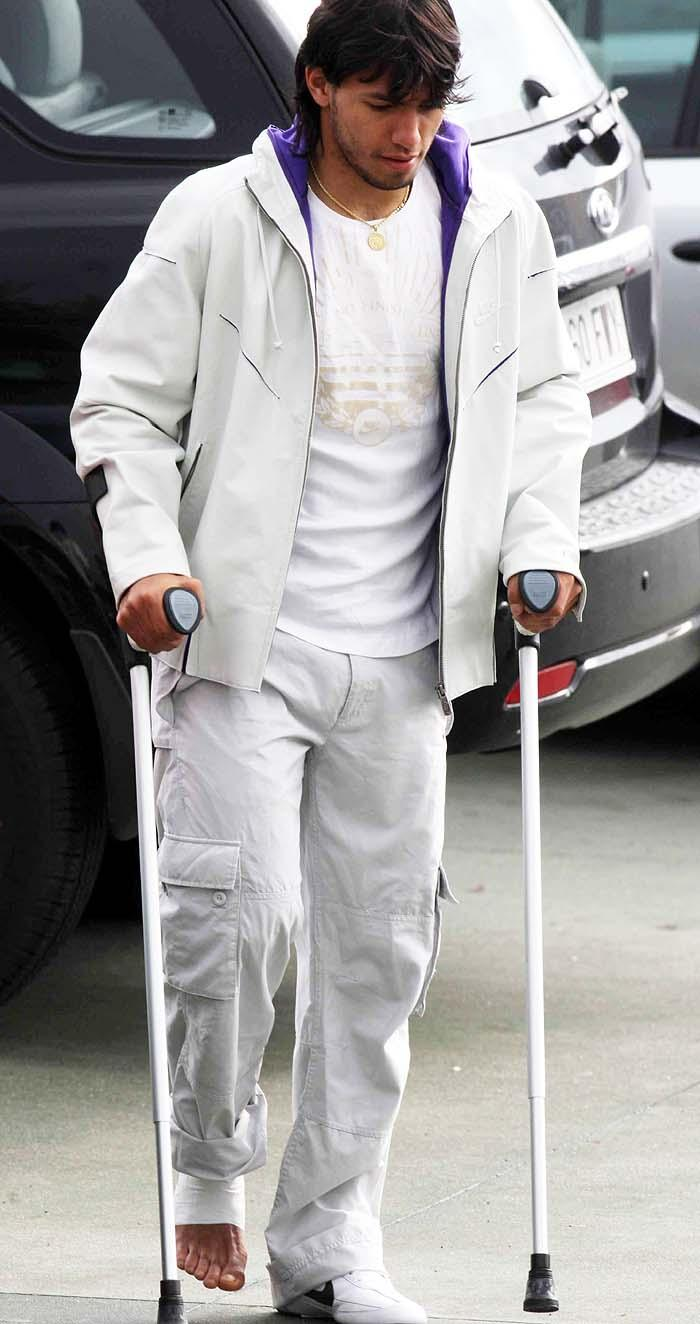crutches: (69, 0, 592, 1324)
